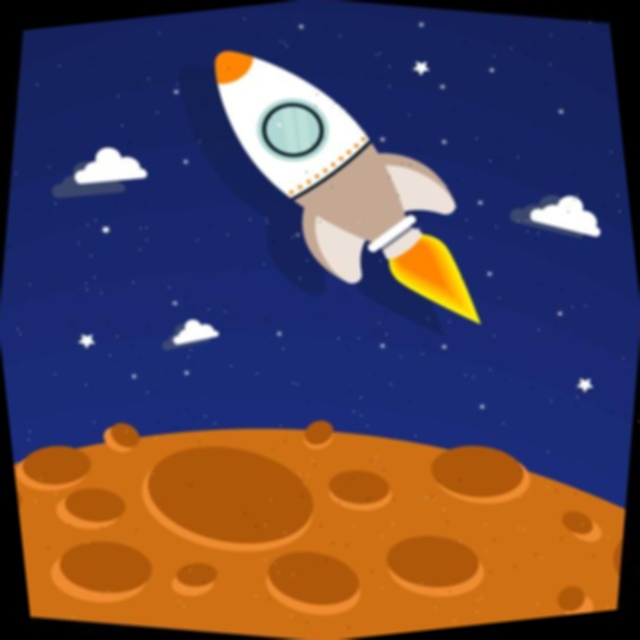rocket: (159, 8, 499, 328)
